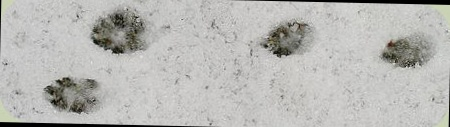rabbit: (81, 4, 165, 70), (29, 68, 115, 124), (247, 13, 329, 70)
